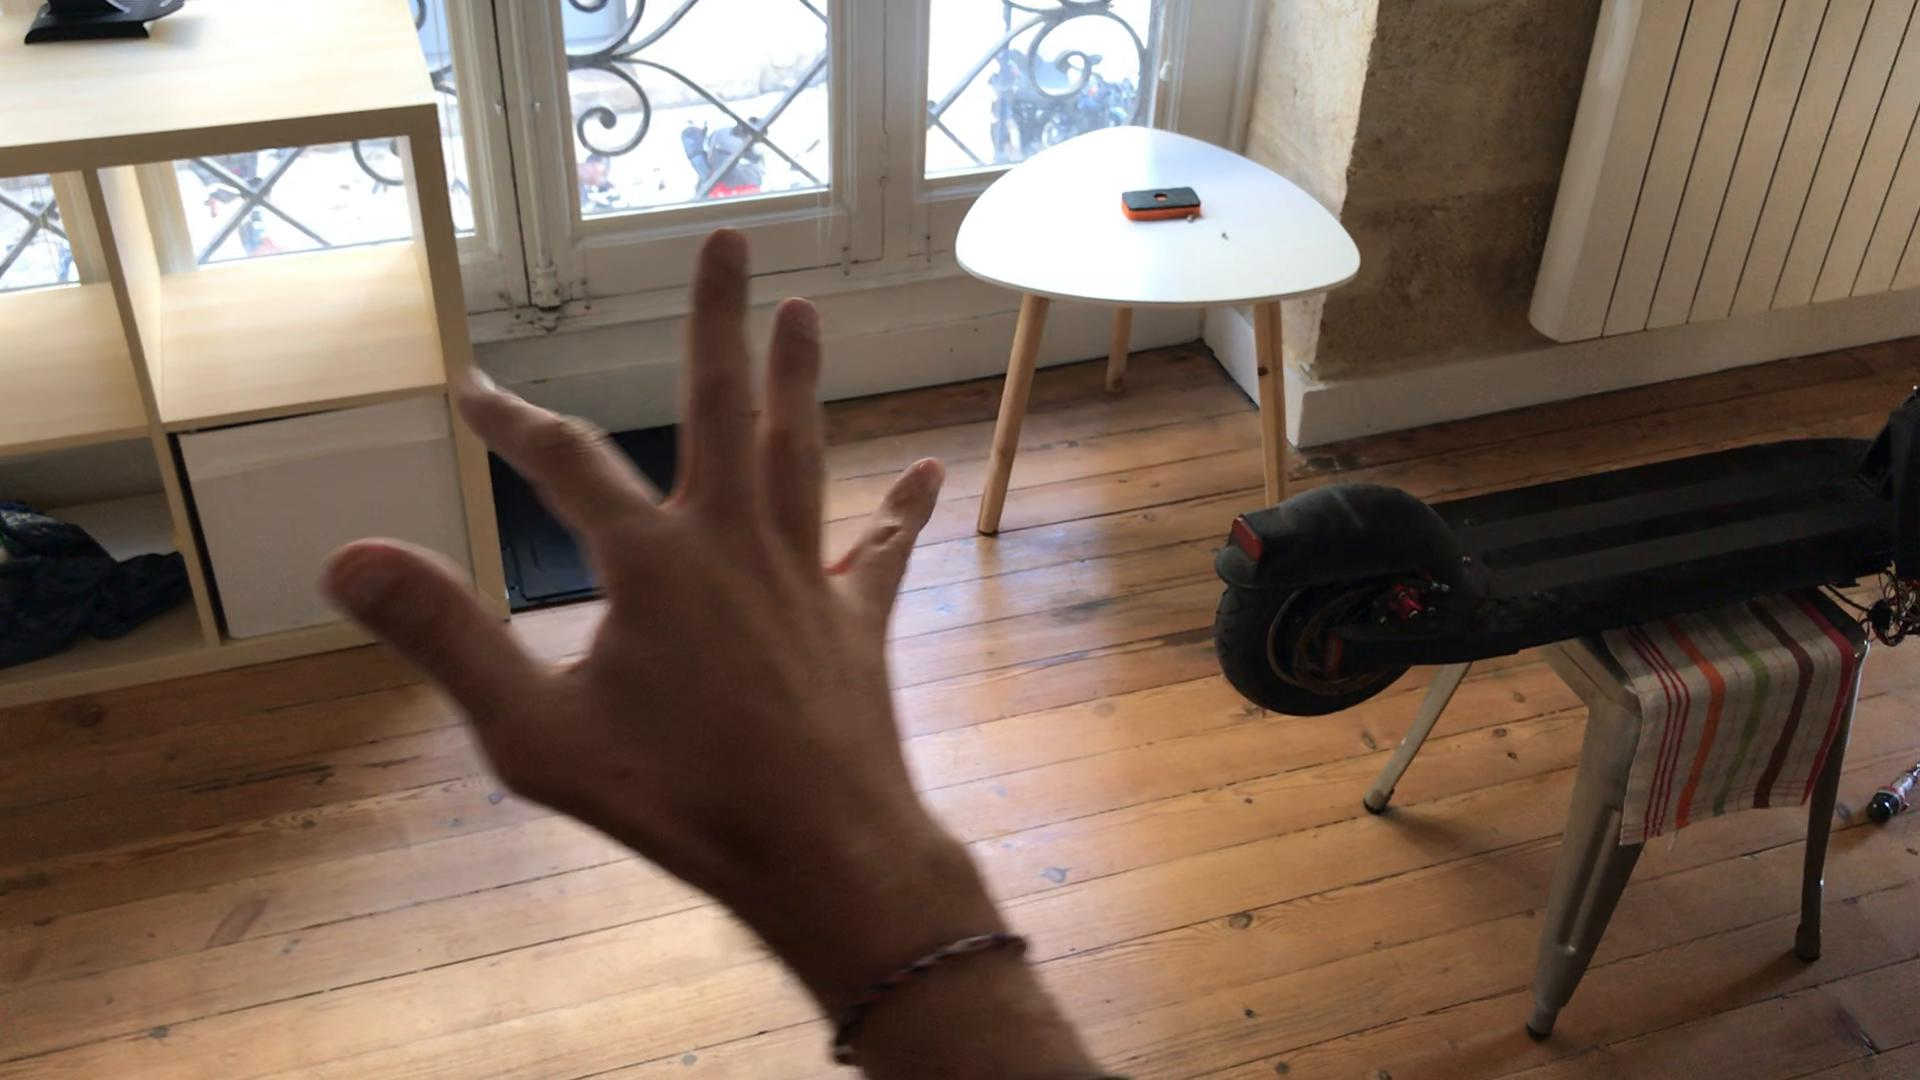hand: (313, 220, 947, 832)
